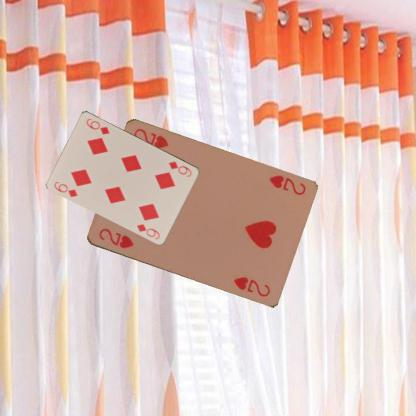2h: (266, 172, 307, 197), (96, 226, 135, 250)
6d: (166, 158, 193, 178), (52, 179, 79, 198)
